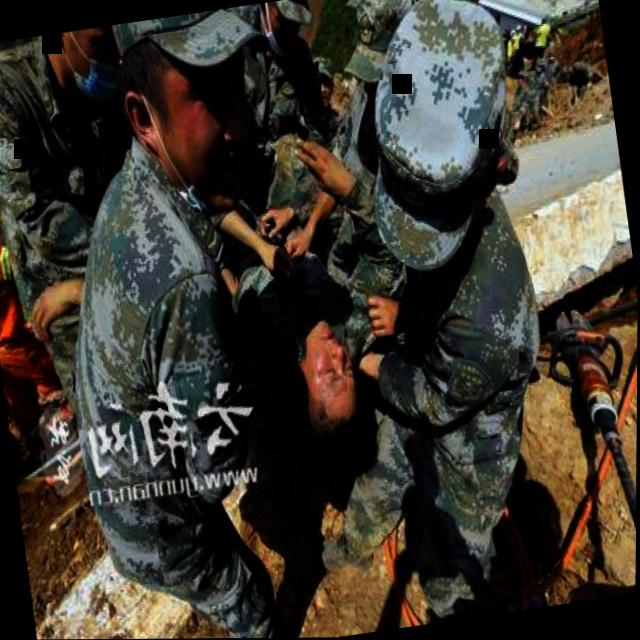Fall-Detected: (197, 76, 414, 536)
